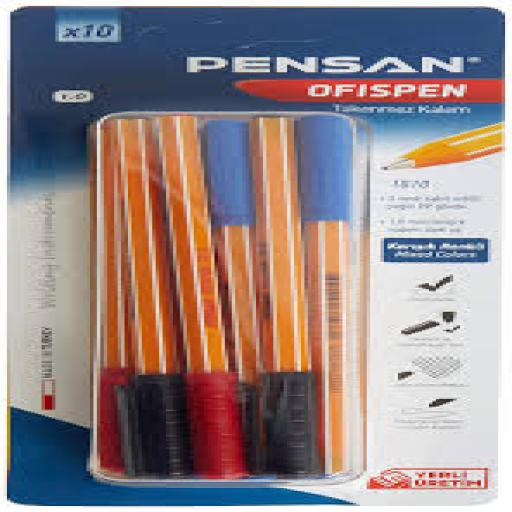tukenmez-kalem: (106, 108, 376, 488)
